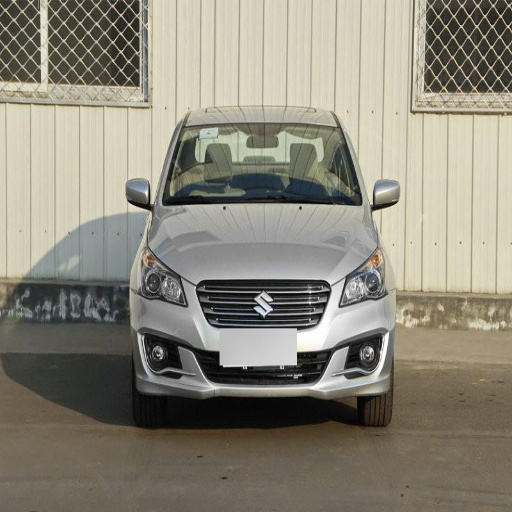front_bumper: (132, 276, 394, 398)
front_right_light: (133, 248, 187, 306)
hood: (149, 206, 377, 281)
